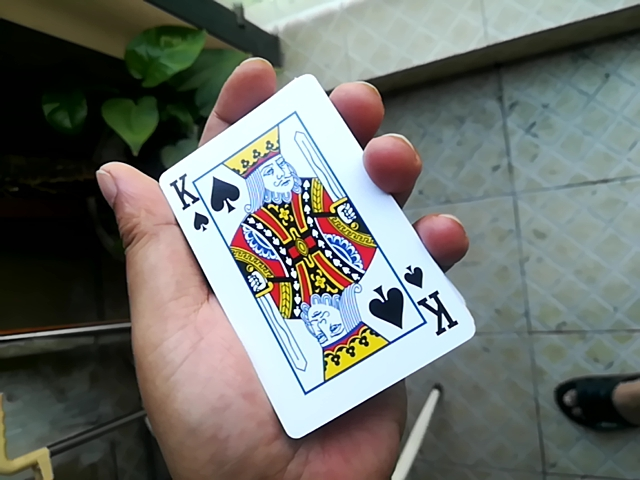ht k: (145, 61, 451, 448)
